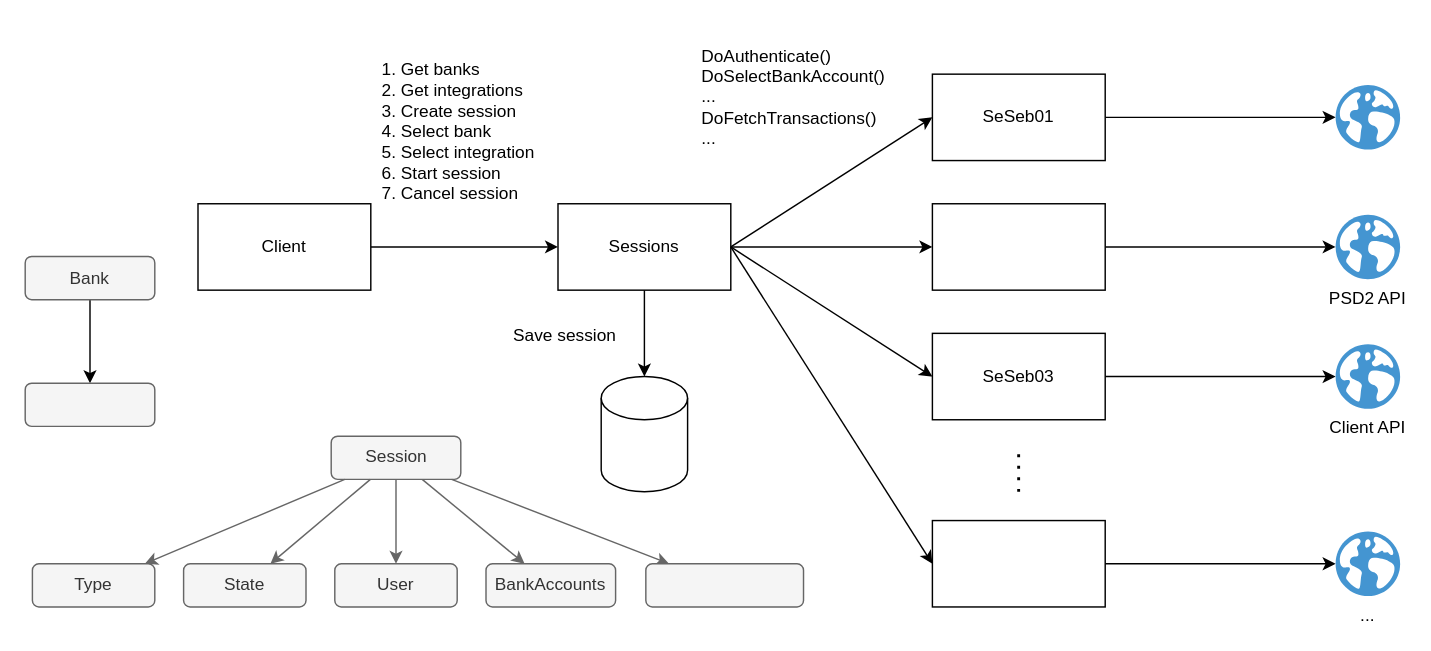
Image size: 1431x651. Some labels were removed from this diagram. The box of each missing label's shape, as (x1, y1, x2, y2) in pixels:
DB: (600, 375, 688, 492)
Integration: (24, 382, 155, 426)
SeSeb02: (931, 202, 1105, 290)
SeSeb0NIntegration: (931, 519, 1105, 607)
TransactionHistory: (644, 562, 804, 607)
Web API: (1335, 84, 1399, 149)
